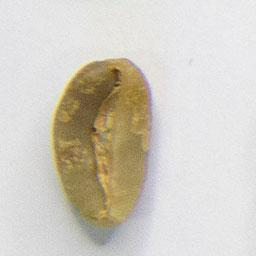longberry: (49, 55, 158, 231)
